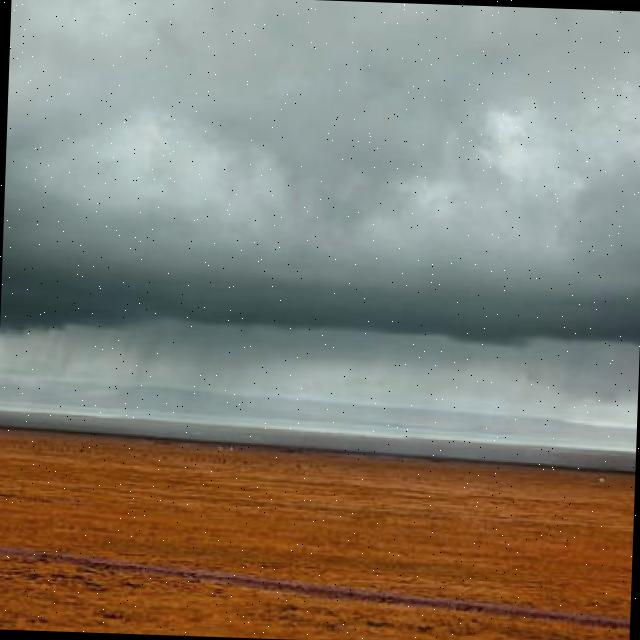Ns: (1, 3, 640, 365)
